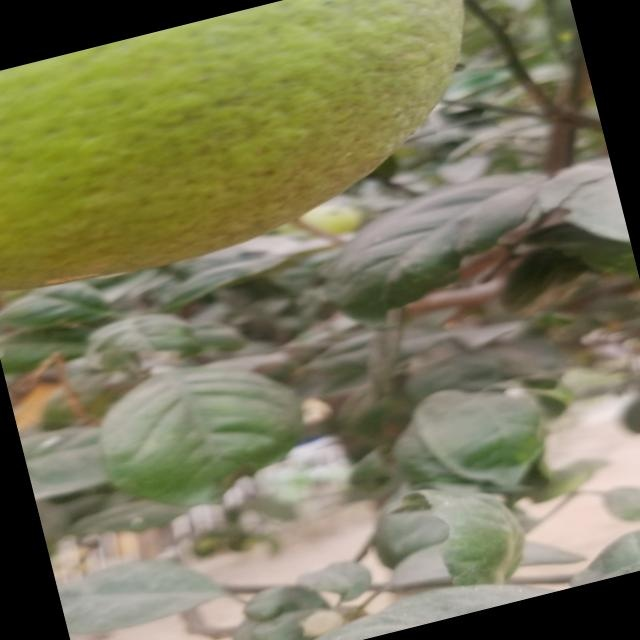agrume: (0, 0, 522, 306)
